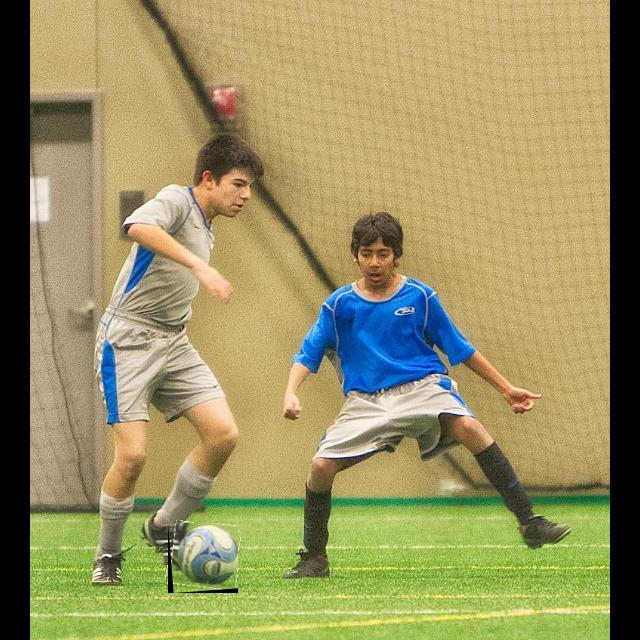Football: (168, 523, 238, 593)
